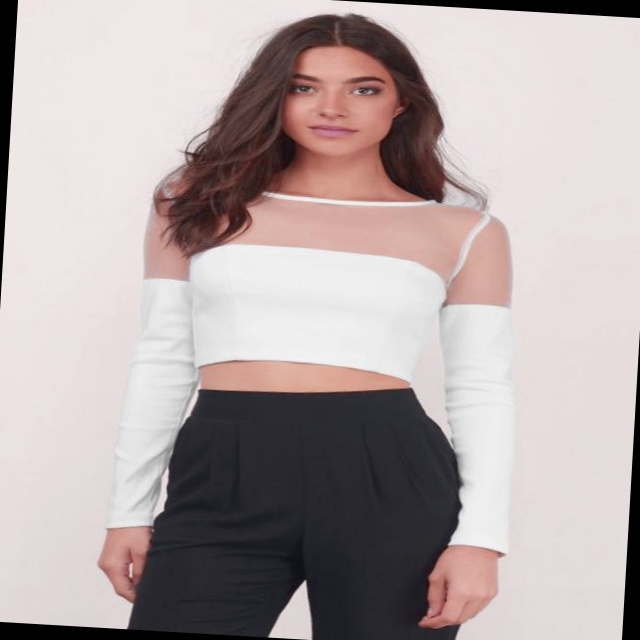Crop_Top: (180, 244, 451, 403)
